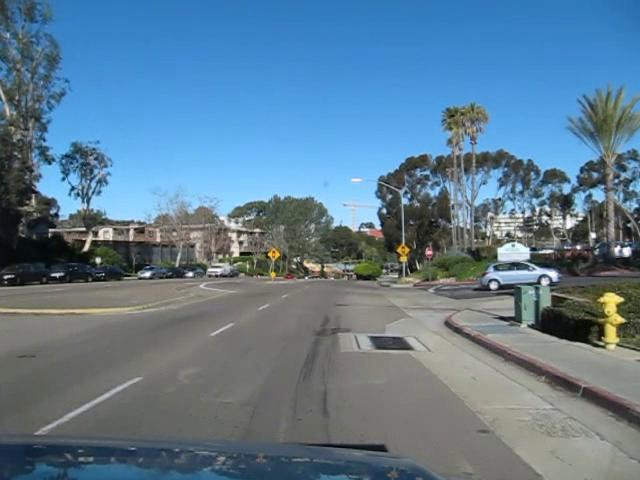signalAhead: (395, 242, 411, 257), (267, 249, 279, 261)
